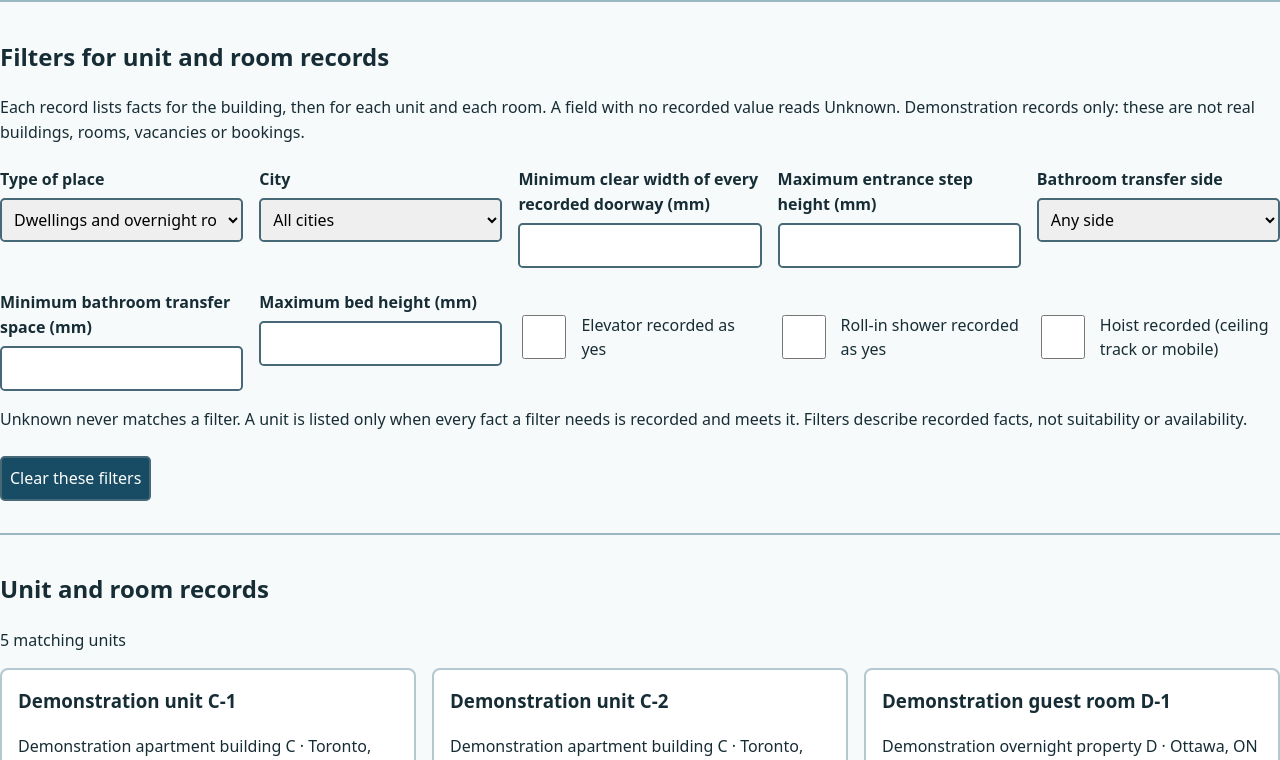
Test: unit and room finder › keeps Unknown out of filtered results and says why units are not listed
Click the checkbox with id "depth-requireRollInShower". click: x=804, y=337
box: left=782, top=315, right=826, bottom=359
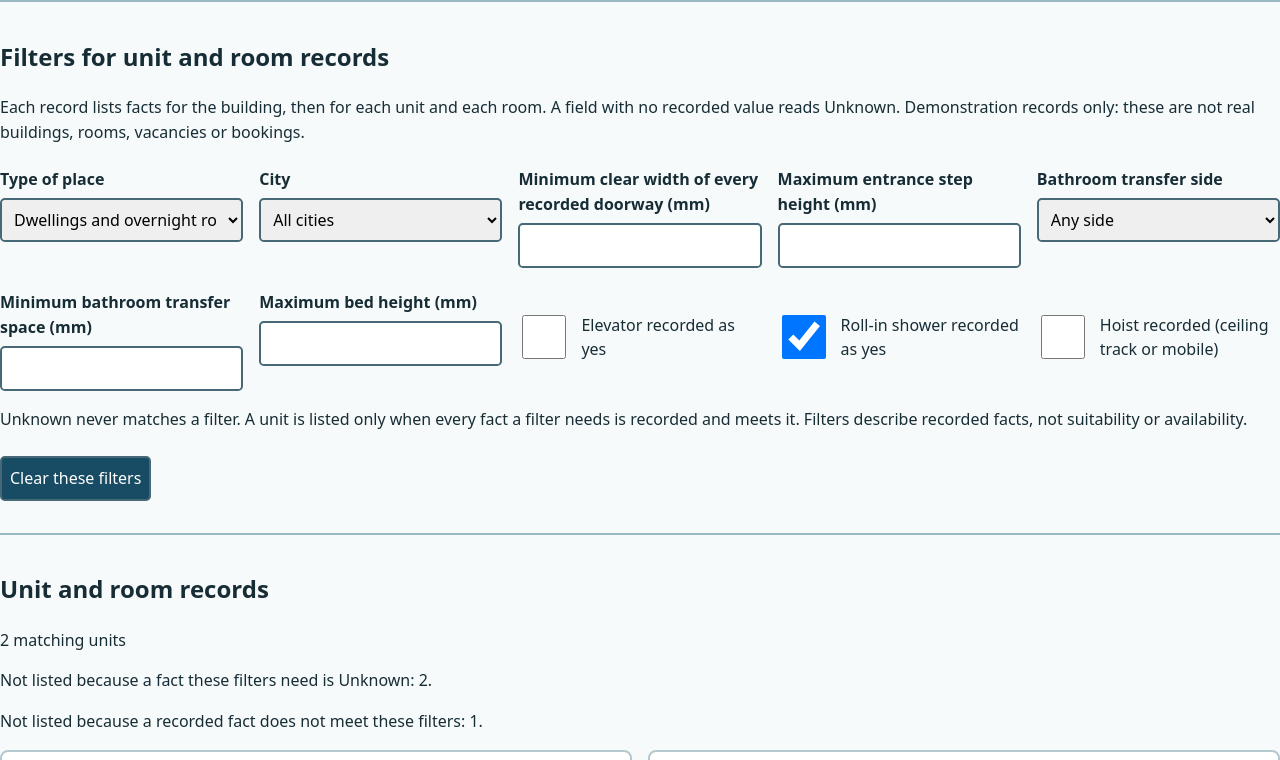
expect the text "2 matching units" is shown: met, box left=0, top=628, right=126, bottom=650
expect the text "Not listed because a fact these filters need is Unknown: 2." is shown: met, box left=0, top=669, right=432, bottom=691
expect the text "Not listed because a recorded fact does not meet these filters: 1." is shown: met, box left=0, top=710, right=483, bottom=732
Click the checkbox with id "depth-requireHoist". click: x=1063, y=337
box: left=1041, top=315, right=1085, bottom=359
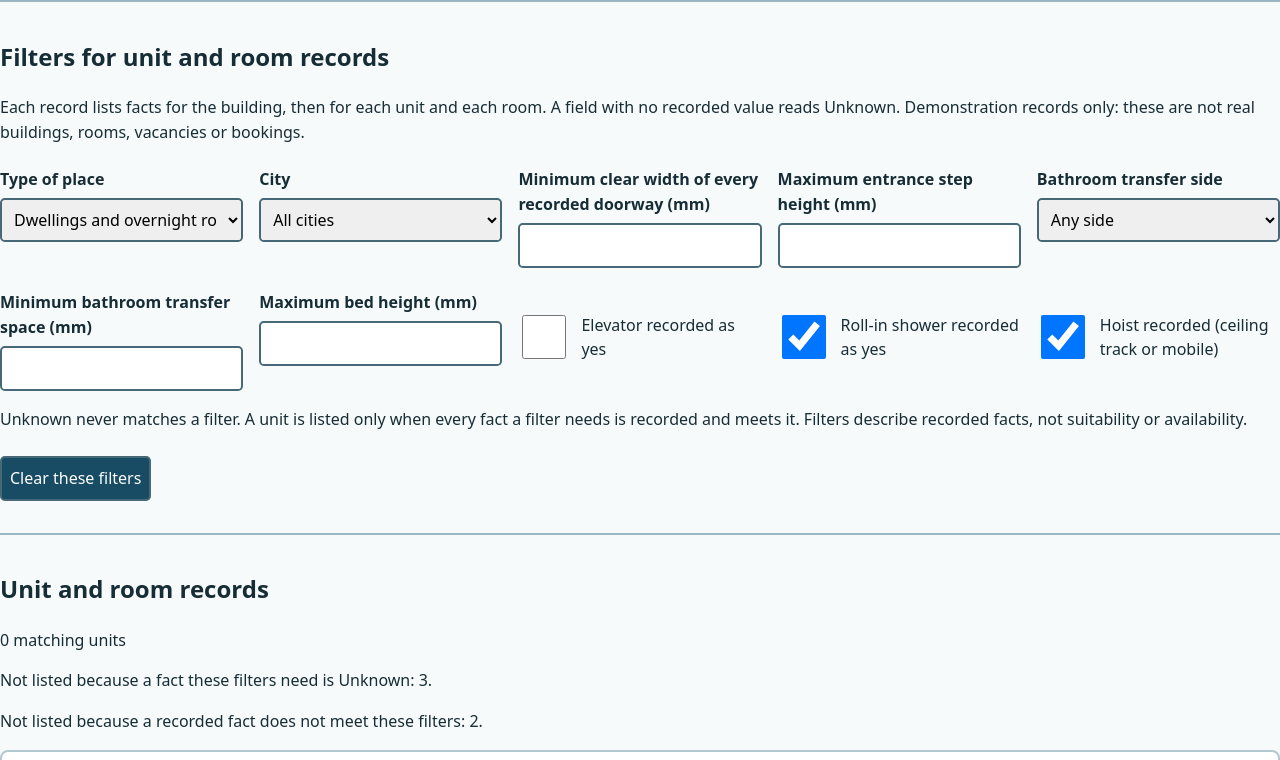
Click the button "Clear these filters". click: x=76, y=478
box: left=0, top=456, right=151, bottom=500
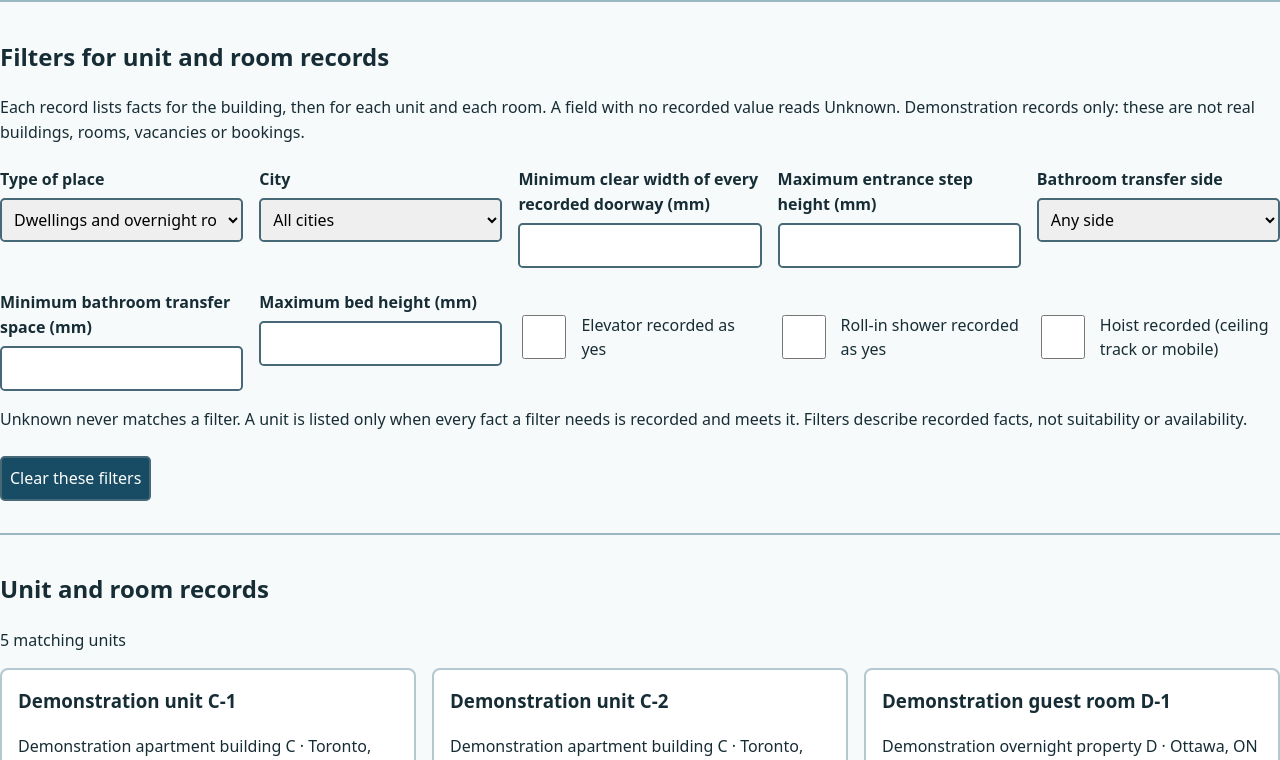
expect the text "5 matching units" is shown: met, box left=0, top=628, right=126, bottom=650
